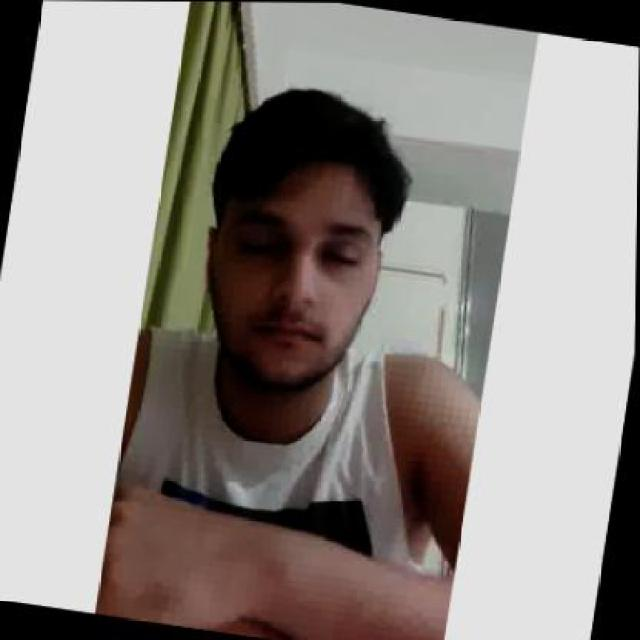inattentif: (187, 75, 405, 398)
